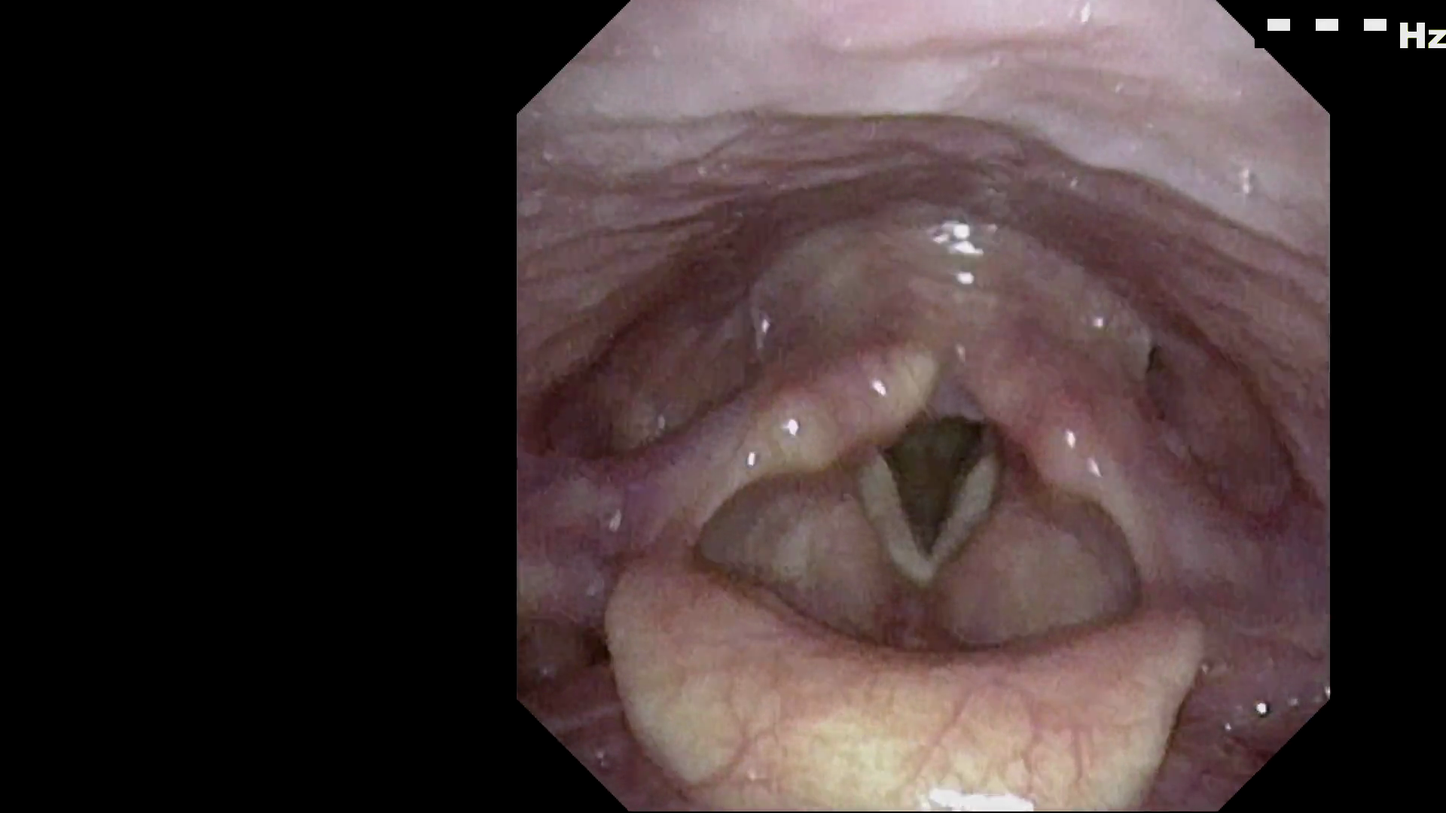epiglottis: (611, 503, 1222, 778)
trachea: (858, 344, 1037, 569)
